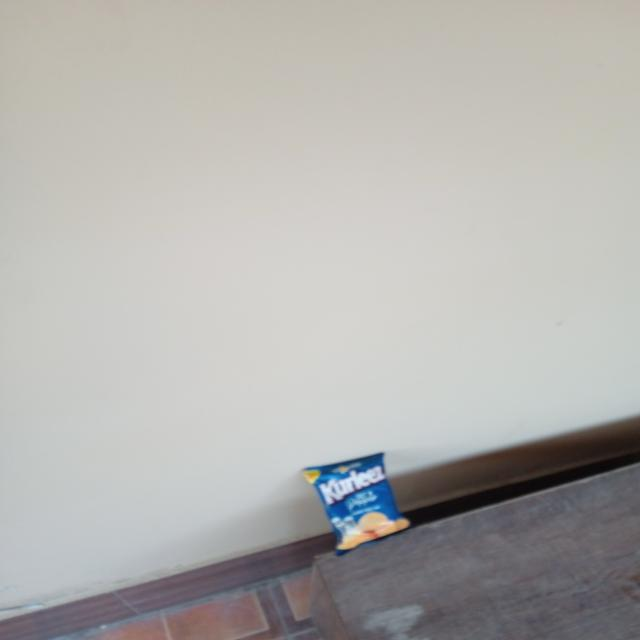Plastic: (310, 451, 410, 551)
